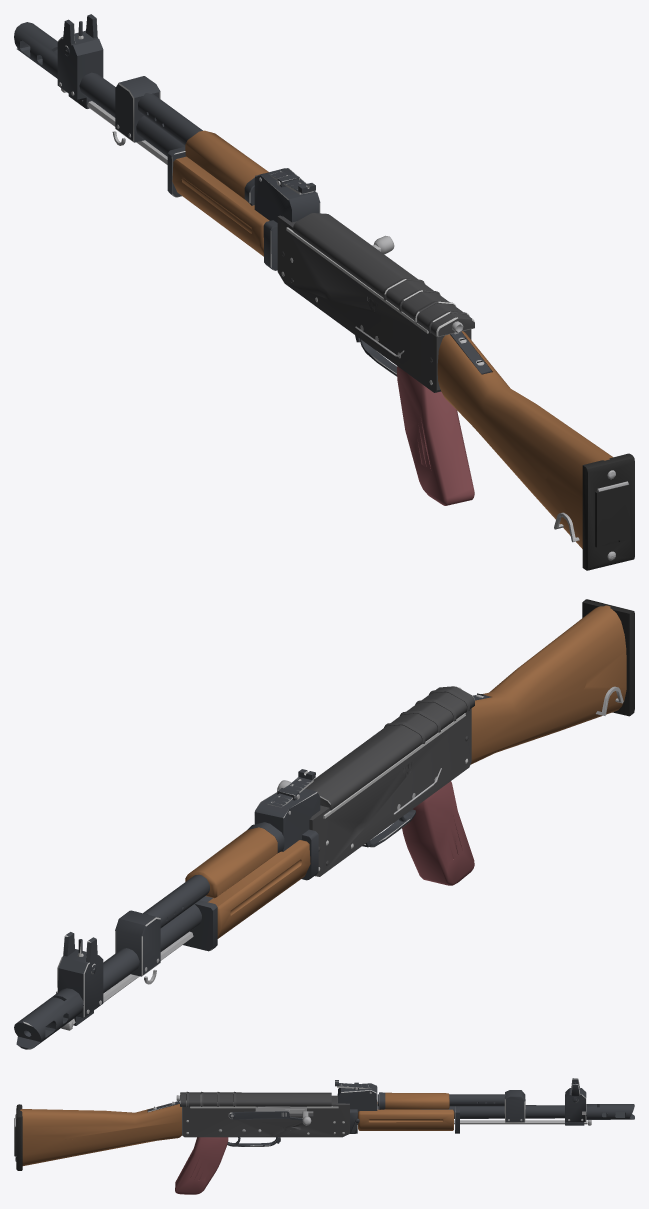
3 views of the same model, one above another, from view 1: azimuth 30°, elevation 25°; view 2: azimuth 150°, elevation 25°; view 3: azimuth 270°, elevation 25° (orthographic). The views are drawn at different scales.
Visible parts, largest first — view 1: Wood, Stamped, Blued, Polymer, Black, Steel, Worn; view 2: Wood, Blued, Stamped, Polymer, Worn, Black, Steel; view 3: Wood, Stamped, Blued, Polymer, Steel, Worn, Black.
Part boxes in pixels (left/top/right/bottom): Wood: left=172, top=130, right=612, bottom=548; Stamped: left=277, top=213, right=474, bottom=392; Blued: left=14, top=14, right=491, bottom=376; Polymer: left=397, top=366, right=474, bottom=505; Black: left=459, top=338, right=634, bottom=570; Steel: left=59, top=82, right=628, bottom=560; Worn: left=57, top=14, right=474, bottom=384; Wood: left=185, top=605, right=626, bottom=938; Blued: left=14, top=694, right=490, bottom=1049; Stamped: left=305, top=686, right=474, bottom=876; Polymer: left=402, top=781, right=474, bottom=885; Worn: left=23, top=686, right=474, bottom=1049; Black: left=477, top=599, right=634, bottom=716; Steel: left=56, top=686, right=623, bottom=1030; Wood: left=20, top=1092, right=454, bottom=1165; Stamped: left=180, top=1091, right=349, bottom=1137; Blued: left=147, top=1078, right=634, bottom=1146; Polymer: left=175, top=1137, right=228, bottom=1194; Steel: left=14, top=1087, right=591, bottom=1161; Worn: left=148, top=1078, right=586, bottom=1146; Black: left=14, top=1102, right=173, bottom=1170.
Bounding box in the file's own units: 0.0762 × 0.1864 × 0.9484.
